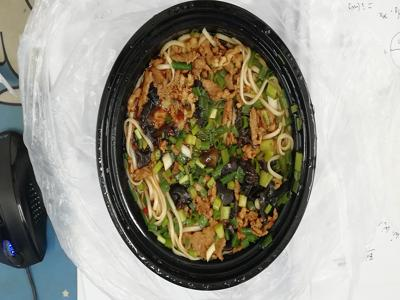nrm: (111, 20, 325, 275)
